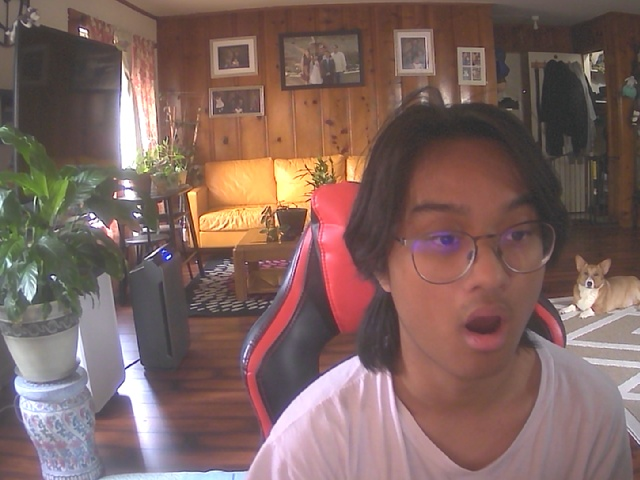fear: (366, 101, 566, 383)
